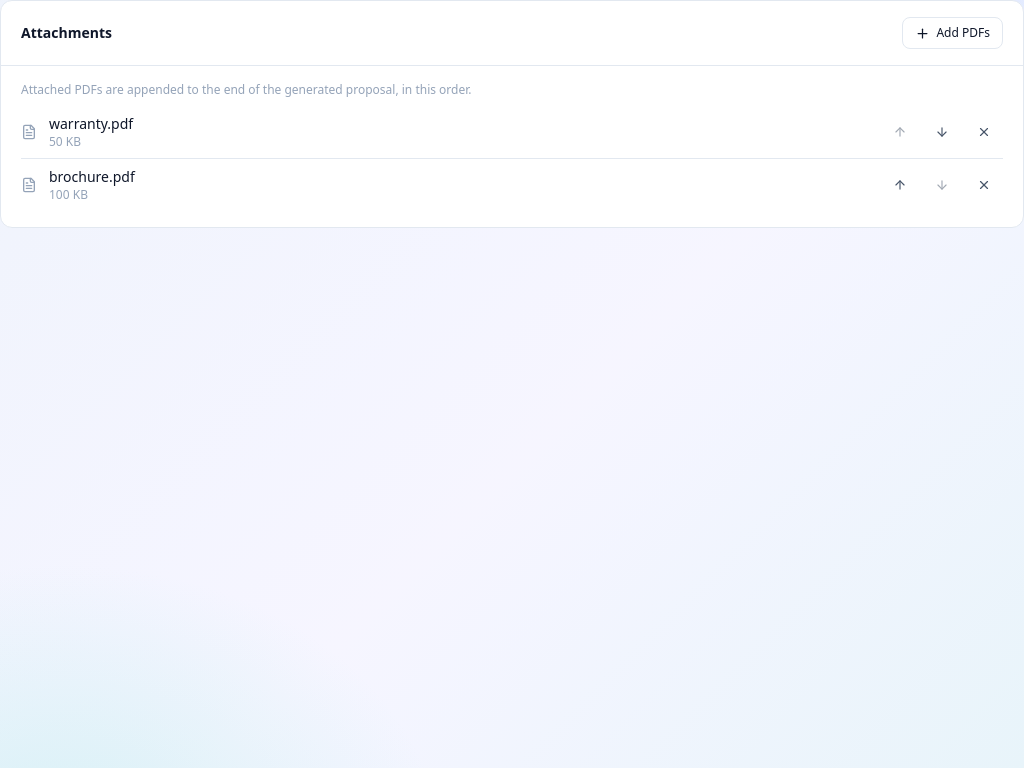
Scenario: ProposalAttachmentsCard › remove: a locked proposal toasts a warning and still reloads into read-only
What coordinates should you click on to do the following:
click the button named "Remove attachment" in the row of "warranty.pdf"
I would click on:
 (984, 132)
Its box is [965,116,1003,148].
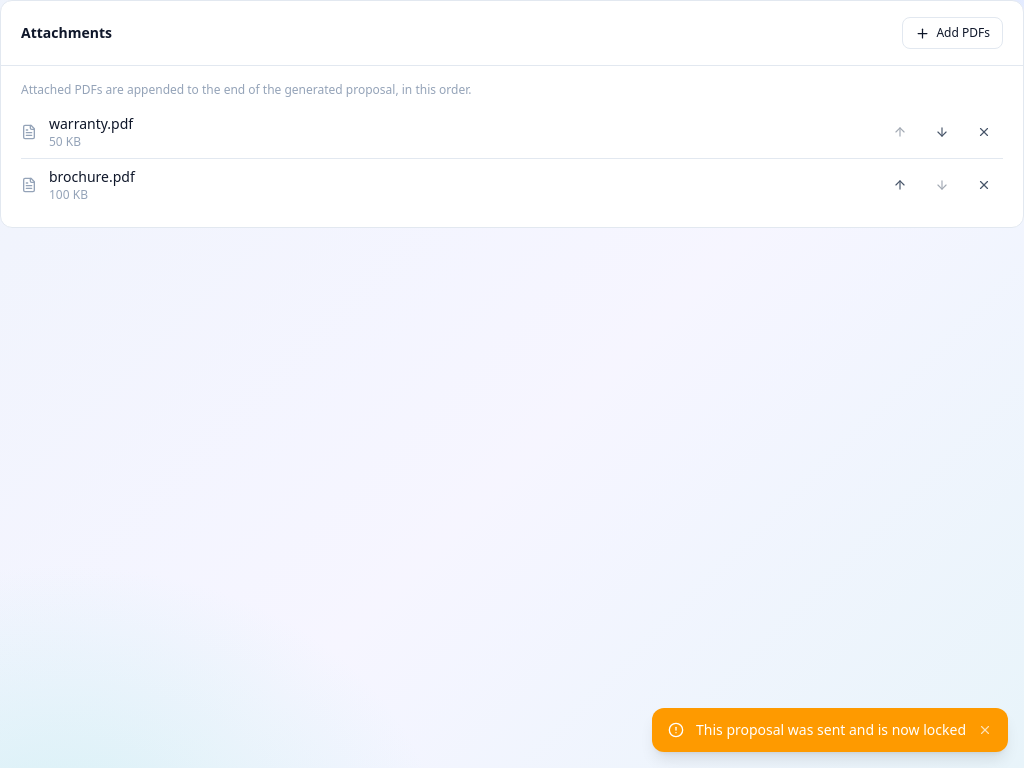
Expected: the text "This proposal was sent and is now locked" is shown, [696,720,966,740]
